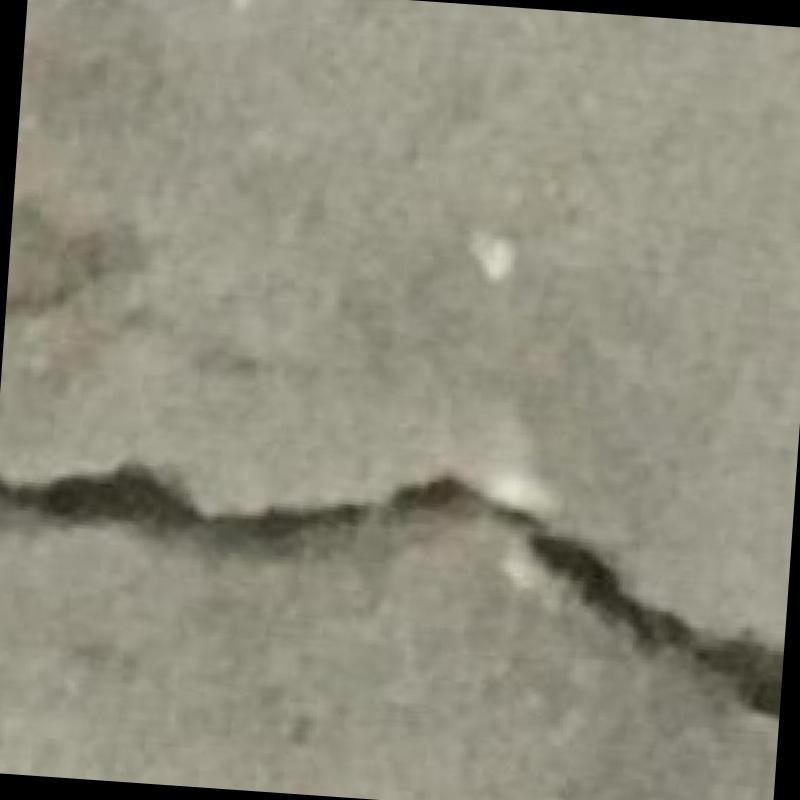pothole: (0, 463, 782, 717)
